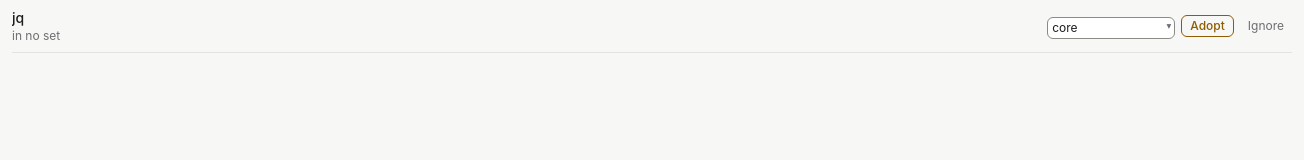
Test case: Unmanaged › filters the sets as you type, which is the point of the search field
Replace the text in the dropdown named "set for jq" with "we". click: (1111, 28)
box: [1047, 16, 1175, 38]
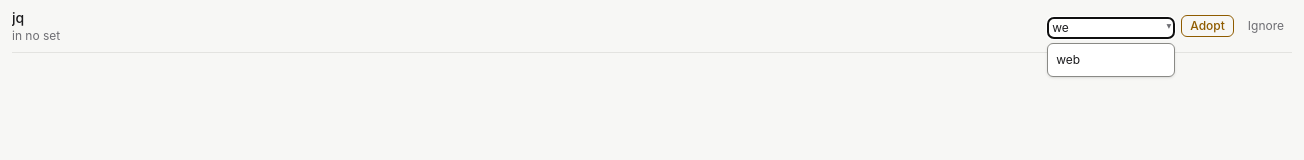
expect the option "web" is shown: met, box [1056, 52, 1080, 66]
expect the option "core" is gone: met
